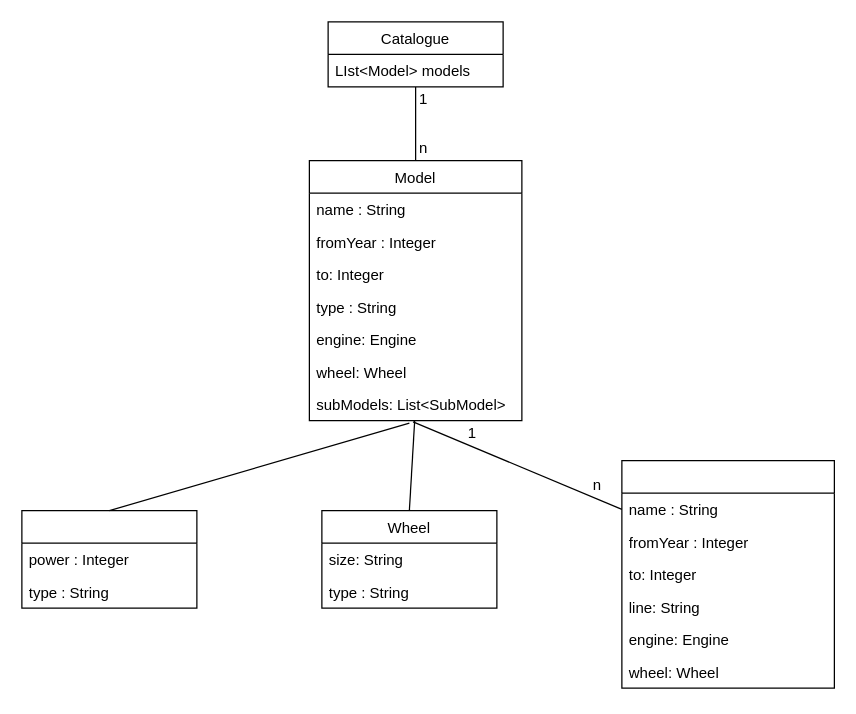
This 856x714 diagram has some shape labels left out. Here are the shapes that lost their labels. From the top down, the box of each, then its label:
(21, 509, 197, 608): Engine
(621, 459, 834, 688): SubModel
